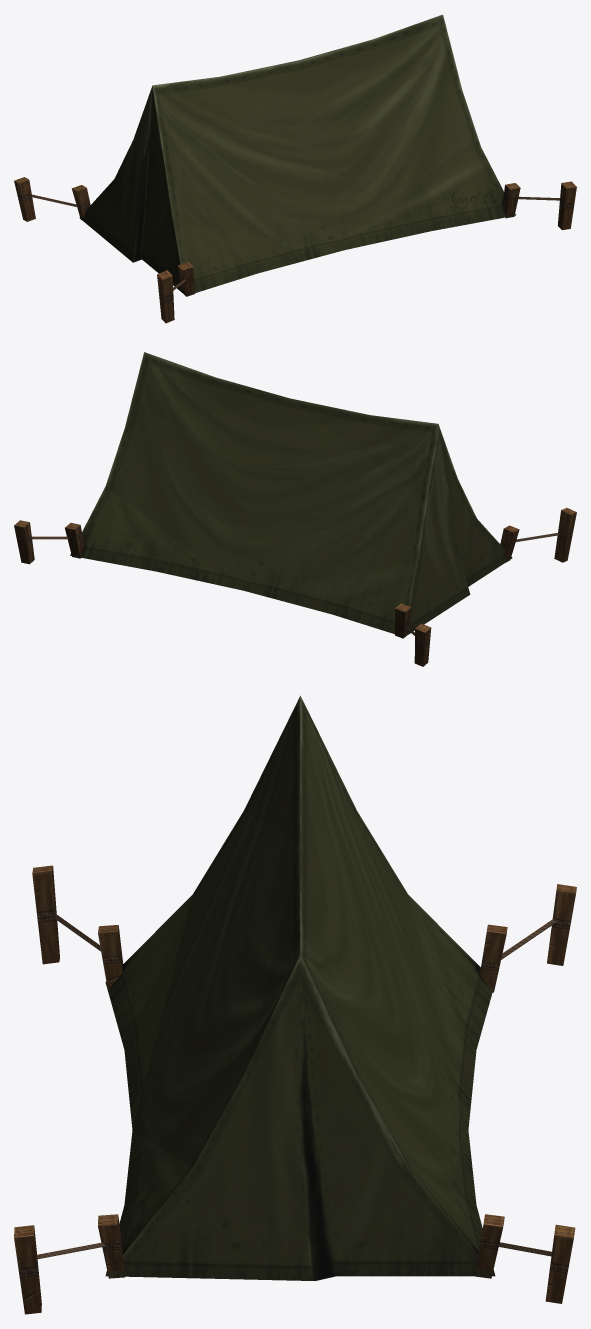
The model's file is modelTent.fbx.
3 views of the same model, one above another, from view 1: azimuth 30°, elevation 25°; view 2: azimuth 150°, elevation 25°; view 3: azimuth 270°, elevation 25° (orthographic). The views are drawn at different scales.
Parts seen in each view (by area): view 1: modelTent; view 2: modelTent; view 3: modelTent.
Boxes of the visible parts, <box> form: modelTent: <box>14,14,576,323</box>; modelTent: <box>14,352,576,666</box>; modelTent: <box>14,695,576,1314</box>.
Bounding box in the file's own units: 28.72 × 11.6 × 18.73.
